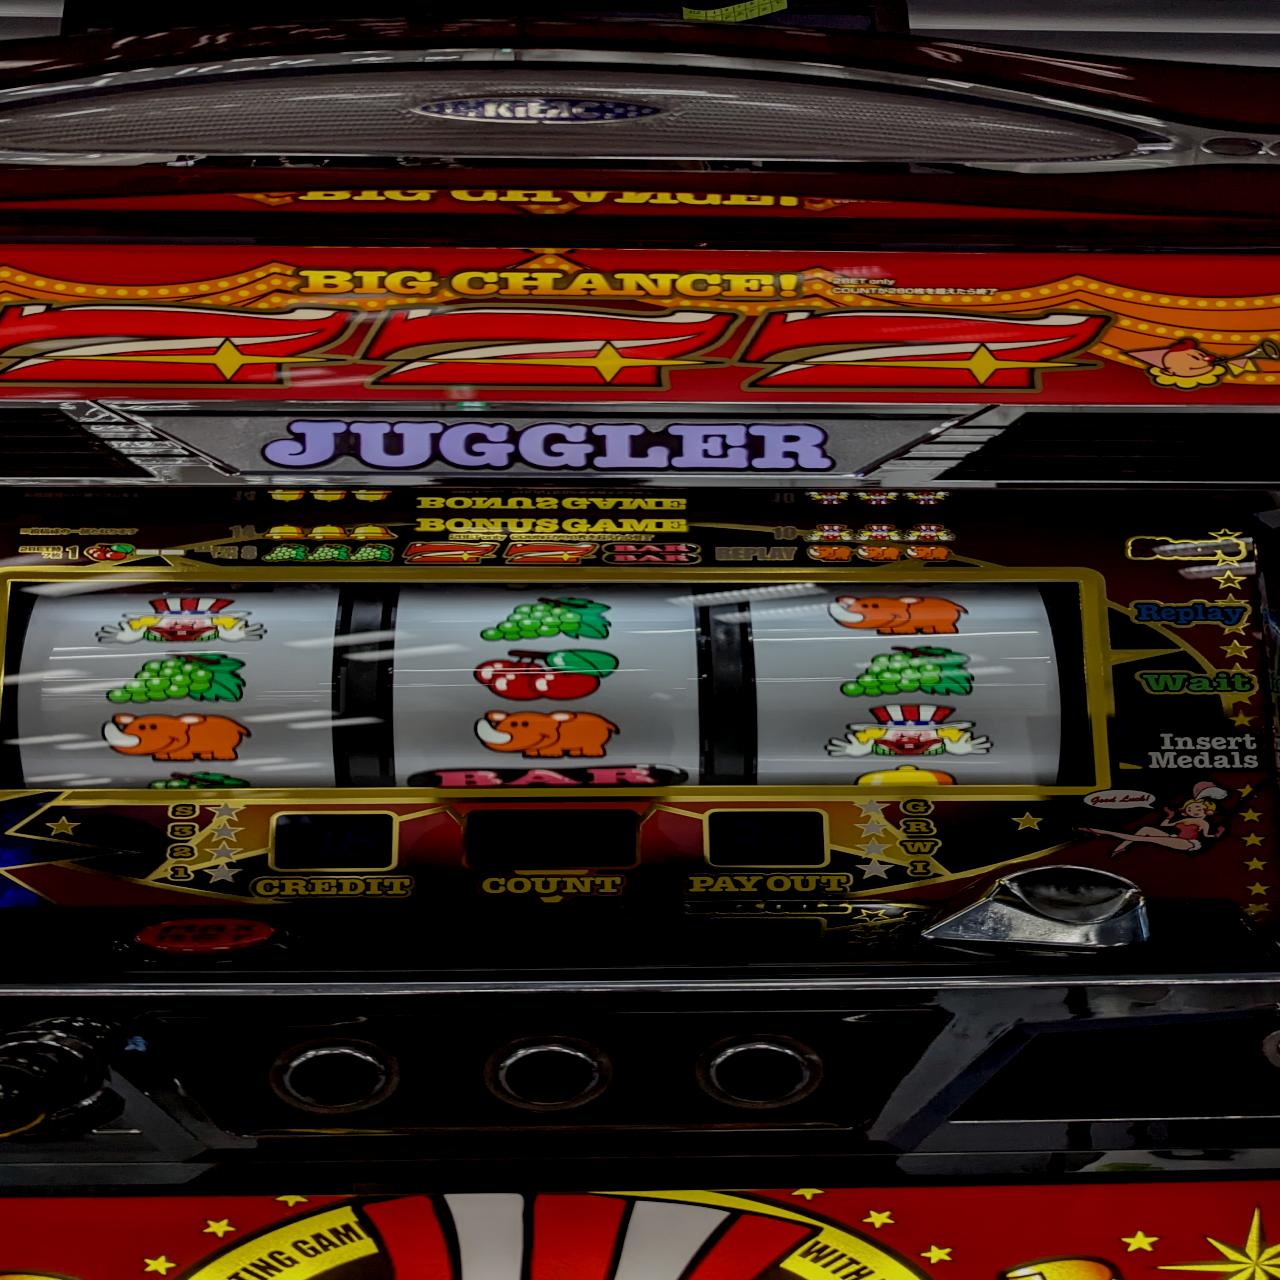8: (97, 712, 251, 762), (476, 710, 622, 761), (825, 594, 971, 638)
Display: (0, 572, 1102, 792)
cherry: (470, 648, 620, 700)
clown: (821, 703, 994, 762), (94, 595, 279, 647)
grape: (838, 644, 980, 700), (103, 649, 248, 703), (475, 594, 613, 640)
